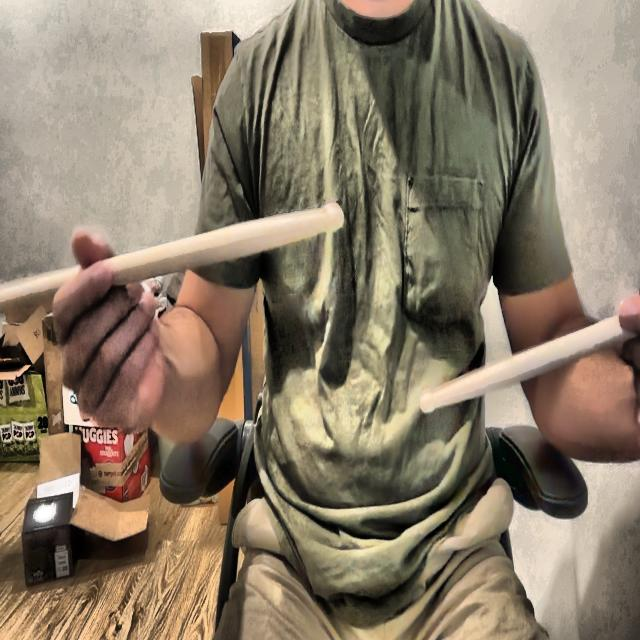Drumstick-Heads: (321, 195, 346, 238), (412, 384, 438, 419)
